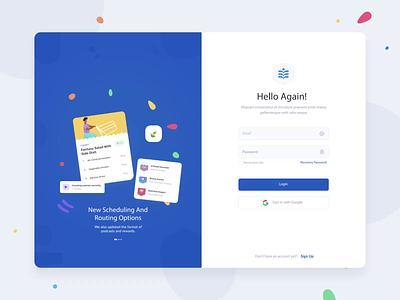button: (240, 197, 330, 210), (240, 180, 329, 192)
checkbox: (239, 162, 243, 168)
input: (239, 128, 330, 142), (239, 146, 329, 159)
label: (243, 161, 266, 167)
